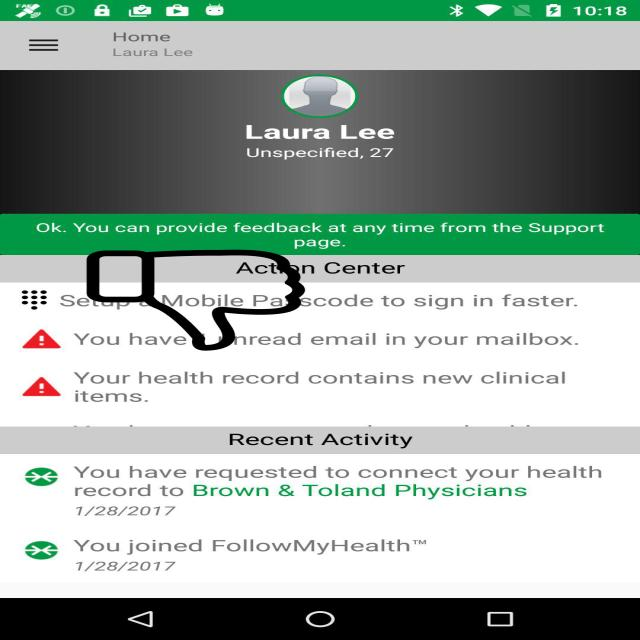obstruction: (84, 250, 308, 350)
